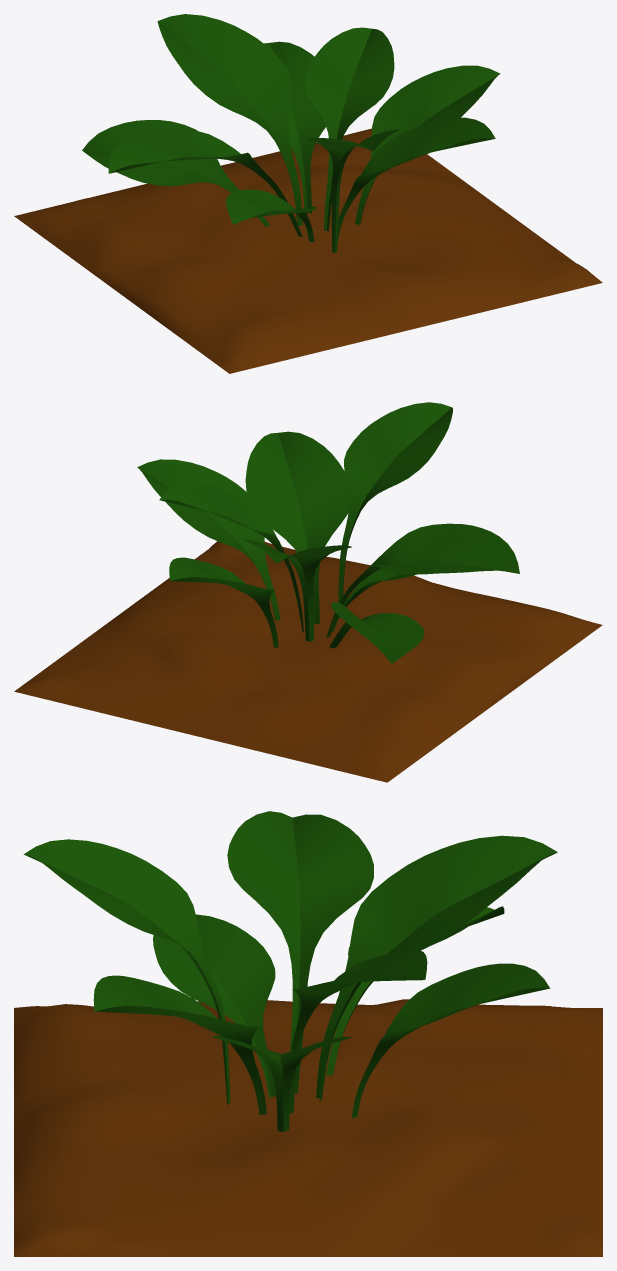
Rendered from orange-daisy-p1-leaf.glb.
3 views of the same model, one above another, from view 1: azimuth 30°, elevation 25°; view 2: azimuth 150°, elevation 25°; view 3: azimuth 270°, elevation 25° (orthographic). The views are drawn at different scales.
Visible parts, largest first — view 1: 1_nft_out_of_bloom; view 2: 1_nft_out_of_bloom; view 3: 1_nft_out_of_bloom.
Boxes of the visible parts, left/top/right/bottom form: 1_nft_out_of_bloom: left=14, top=14, right=602, bottom=373; 1_nft_out_of_bloom: left=14, top=402, right=602, bottom=782; 1_nft_out_of_bloom: left=14, top=811, right=602, bottom=1256.
Bounding box in the file's own units: 0.7356 × 0.3384 × 0.7.
